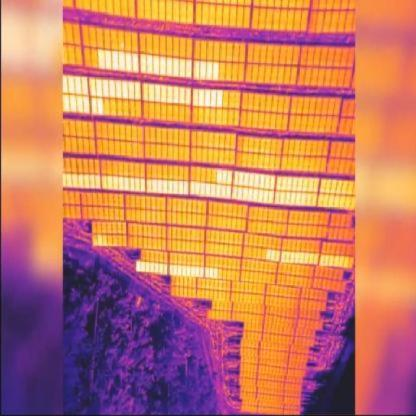anomaly: (62, 174, 355, 207), (62, 75, 223, 108), (97, 48, 220, 81), (216, 169, 356, 195), (265, 247, 353, 268), (136, 260, 219, 279), (62, 95, 105, 115)
